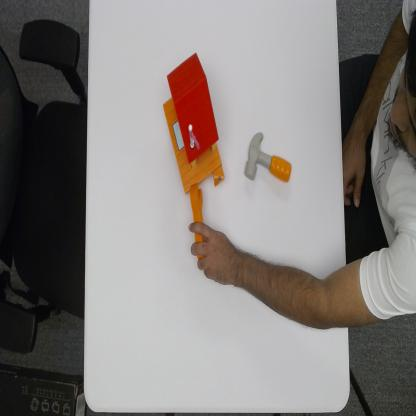Arm: (238, 244, 415, 331)
Hammer: (243, 130, 293, 186)
Hand: (189, 219, 238, 288)
House: (162, 52, 226, 196)
Screwdriver: (189, 181, 206, 260)
